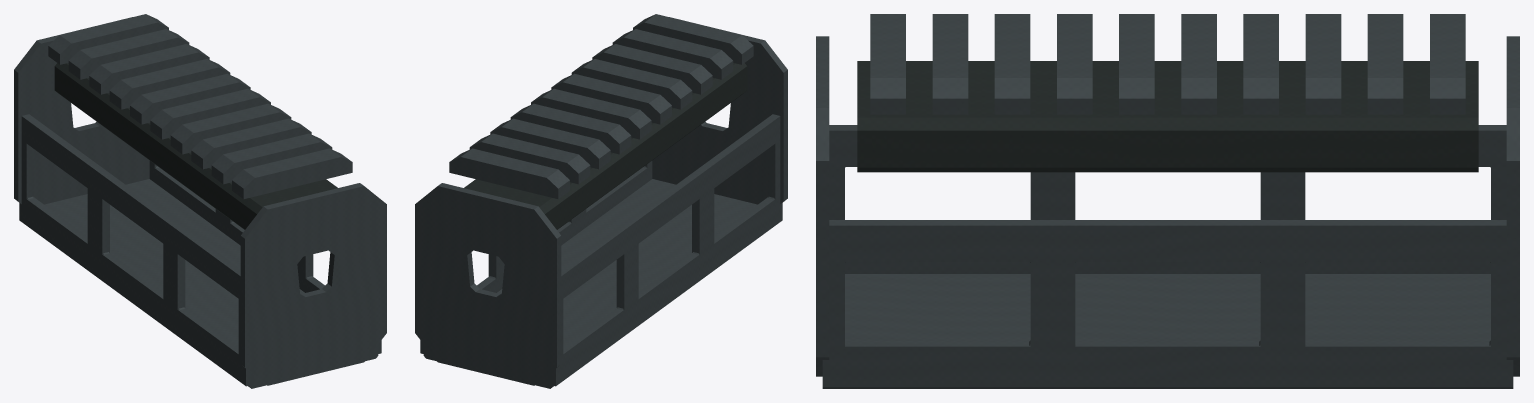
Rendered from ak12_guard.glb.
The picture shows the model from 3 angles, left to right: view 1: azimuth 30°, elevation 25°; view 2: azimuth 150°, elevation 25°; view 3: azimuth 270°, elevation 25°; orthographic projection. The views are drawn at different scales.
Parts seen in each view (by area): view 1: ak12_guard_vent_wall, ak12_guard_vent_wall.006, ak12_guard_upper_cover; view 2: ak12_guard_vent_wall, ak12_guard_vent_wall.006, ak12_guard_upper_cover; view 3: ak12_guard_vent_wall, ak12_guard_upper_cover, ak12_guard_vent_wall.006.
Boxes of the visible parts, x1=… form: ak12_guard_vent_wall: x1=14, y1=14, x2=386, y2=388; ak12_guard_vent_wall.006: x1=19, y1=114, x2=381, y2=386; ak12_guard_upper_cover: x1=54, y1=63, x2=337, y2=229; ak12_guard_vent_wall: x1=415, y1=14, x2=787, y2=388; ak12_guard_vent_wall.006: x1=420, y1=114, x2=782, y2=386; ak12_guard_upper_cover: x1=464, y1=63, x2=747, y2=229; ak12_guard_vent_wall: x1=816, y1=14, x2=1519, y2=388; ak12_guard_upper_cover: x1=857, y1=61, x2=1478, y2=172; ak12_guard_vent_wall.006: x1=822, y1=125, x2=1513, y2=386.
Bounding box in the file's own units: 0.112 × 0.147 × 0.316.
Materials: 2 (2 with a texture image).
